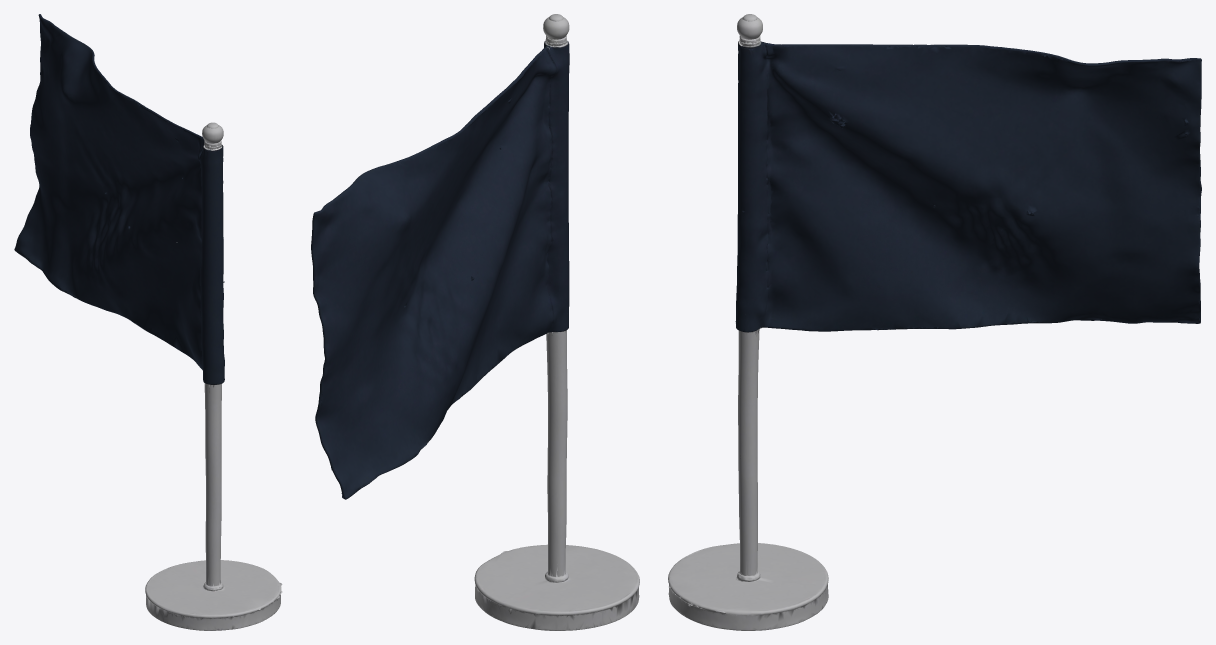
The model's file is BANDERA.glb.
3 renders of one model, left to right at view 1: azimuth 30°, elevation 25°; view 2: azimuth 150°, elevation 25°; view 3: azimuth 270°, elevation 25°, orthographic. The views are drawn at different scales.
Visible parts, largest first — view 1: tripo_node_ad395b07-68dd-4747-9a30-12fe33ab9780; view 2: tripo_node_ad395b07-68dd-4747-9a30-12fe33ab9780; view 3: tripo_node_ad395b07-68dd-4747-9a30-12fe33ab9780.
Part boxes in pixels (left/top/right/bottom): tripo_node_ad395b07-68dd-4747-9a30-12fe33ab9780: left=14, top=14, right=282, bottom=630; tripo_node_ad395b07-68dd-4747-9a30-12fe33ab9780: left=311, top=14, right=639, bottom=630; tripo_node_ad395b07-68dd-4747-9a30-12fe33ab9780: left=668, top=14, right=1201, bottom=630.
Size of the model in its own units: 0.254 by 0.9793 by 0.8155.
1 material, 1 textured.
